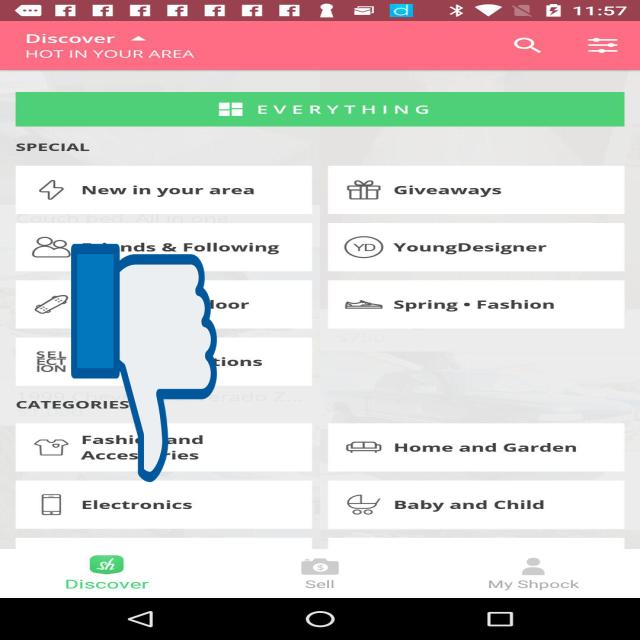obstruction: (71, 239, 217, 487)
